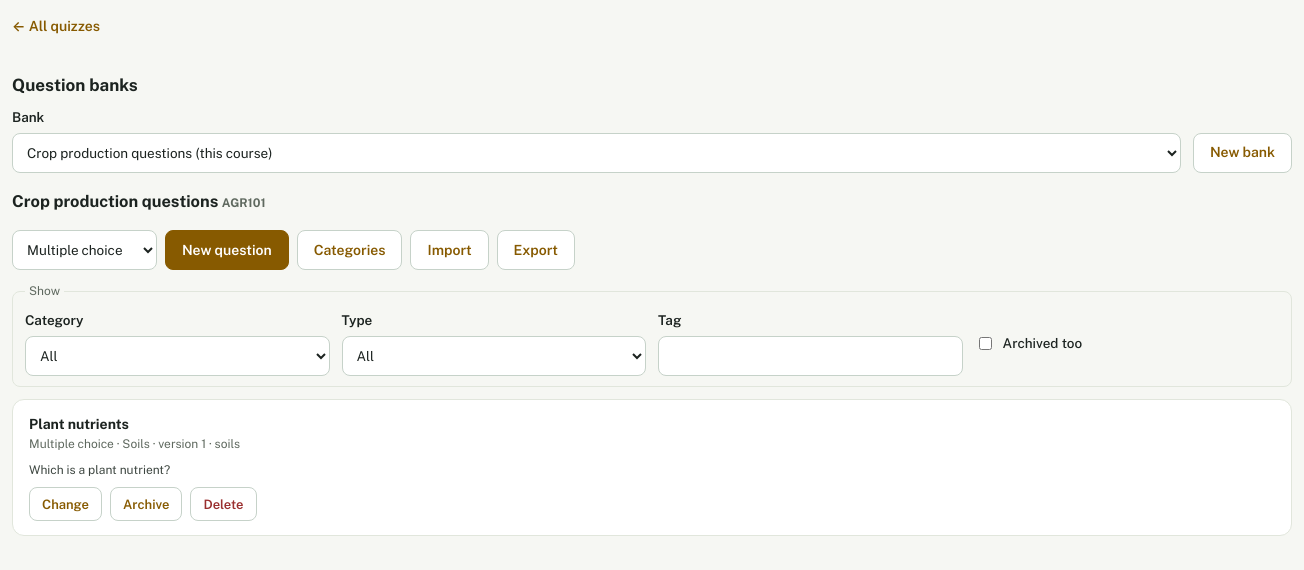
question banks (item 3.01) › lets a department's bank be used but not changed
The width and height of the screenshot is (1304, 570).
Expected: the text "Plant nutrients" is shown, [29,416,129,432]
Select "Crops department (department CROPS)" in the dropdown labelled "Bank" at coordinates (596, 153), box [12,133,1181,173]
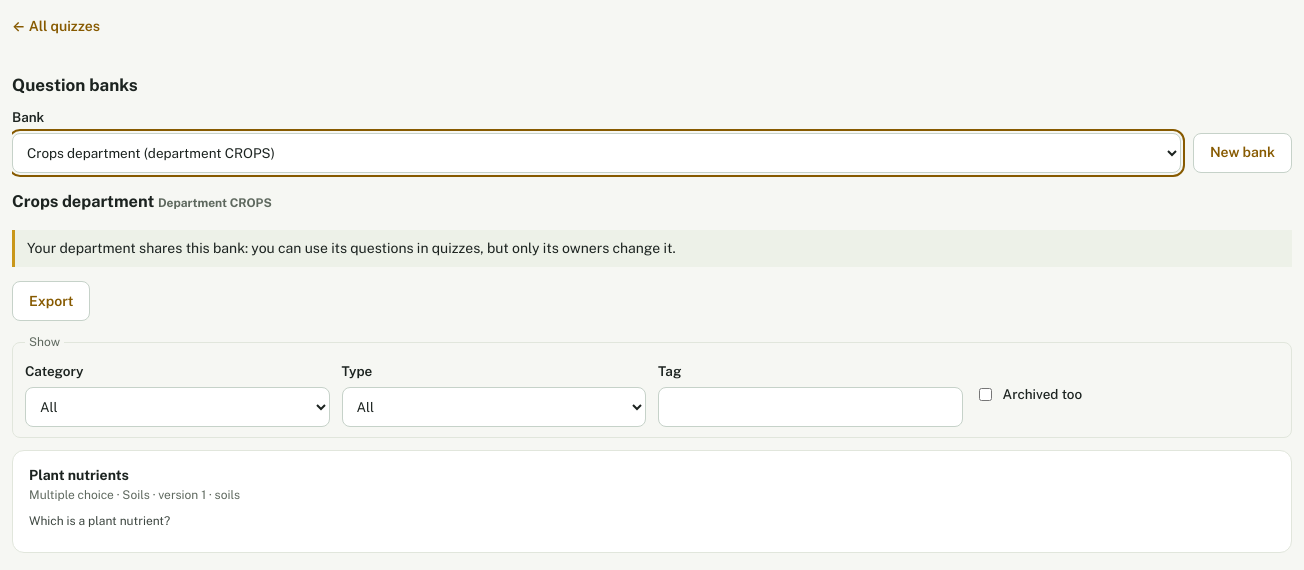
Now the text "Your department shares this bank" is shown, box [27,240,676,256]
Now the button "New question" is gone
